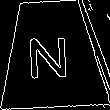N_N: (28, 28, 76, 81)
